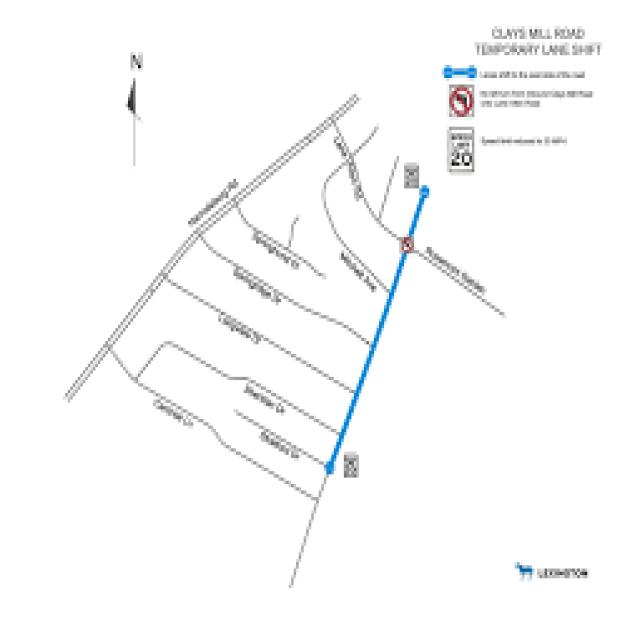speedLimit20: (448, 125, 478, 174)
